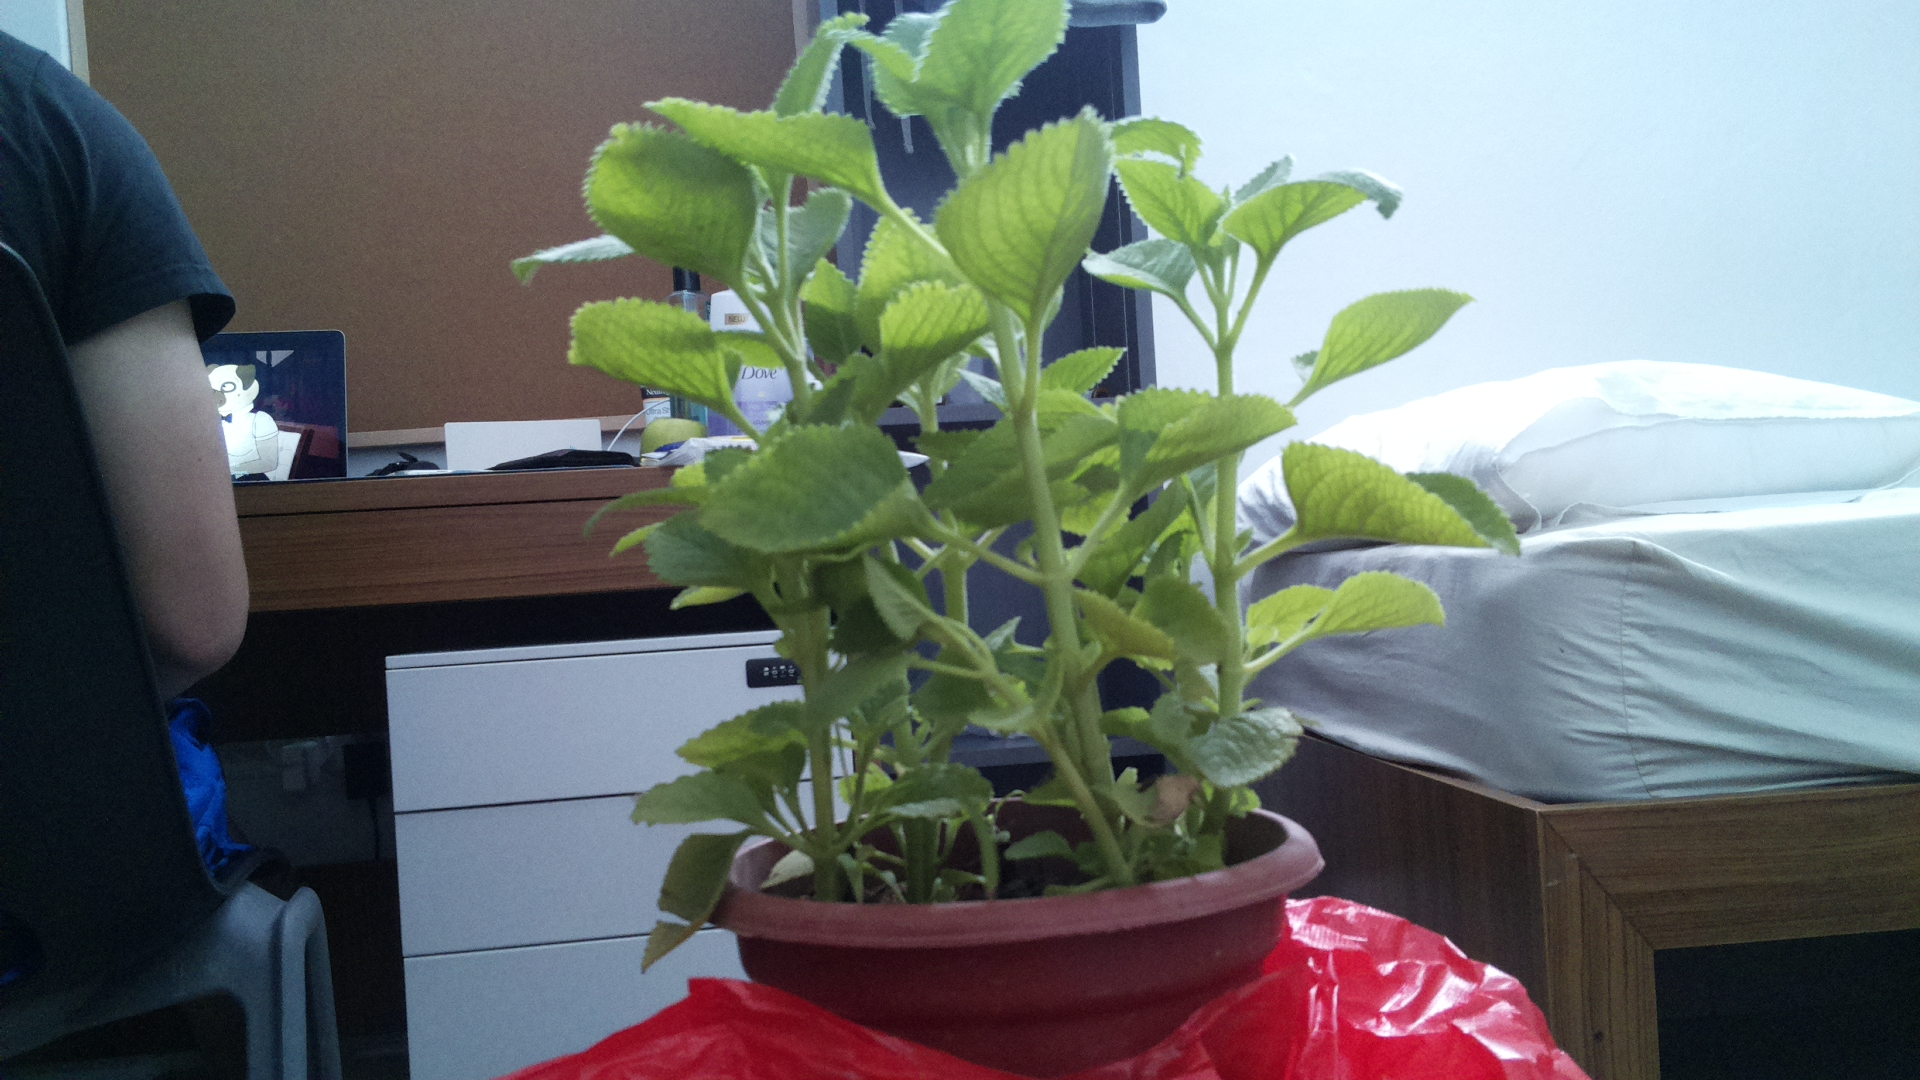leaf: (939, 94, 1106, 338), (691, 414, 935, 563), (1296, 429, 1524, 568), (578, 115, 756, 284), (655, 84, 891, 206), (1288, 274, 1481, 413), (1116, 365, 1305, 498), (556, 291, 736, 421), (1232, 152, 1408, 274), (1251, 563, 1445, 671), (637, 815, 760, 975), (1153, 687, 1315, 796), (1079, 574, 1240, 667), (1101, 153, 1228, 272)
